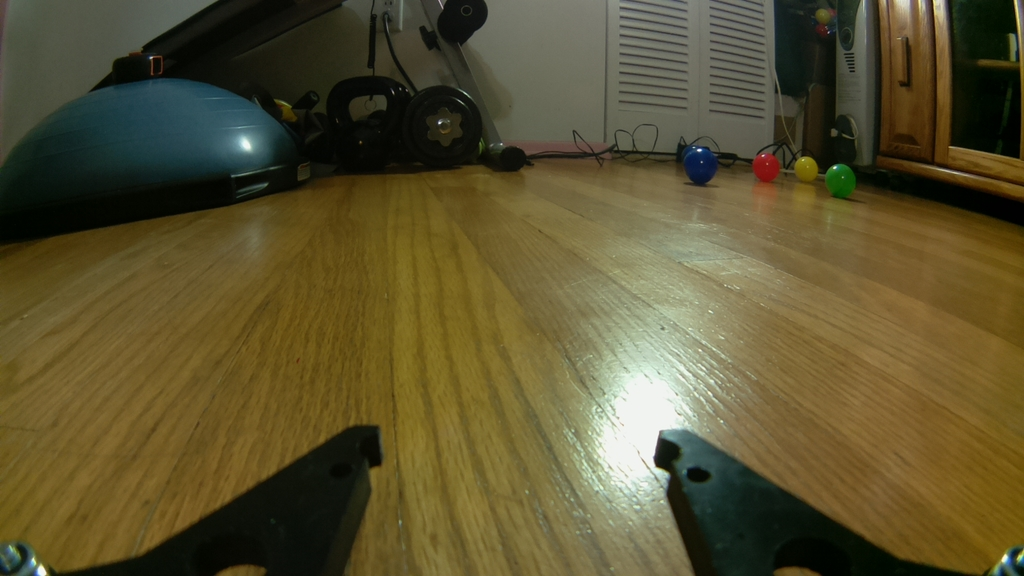ball: (750, 152, 781, 184)
